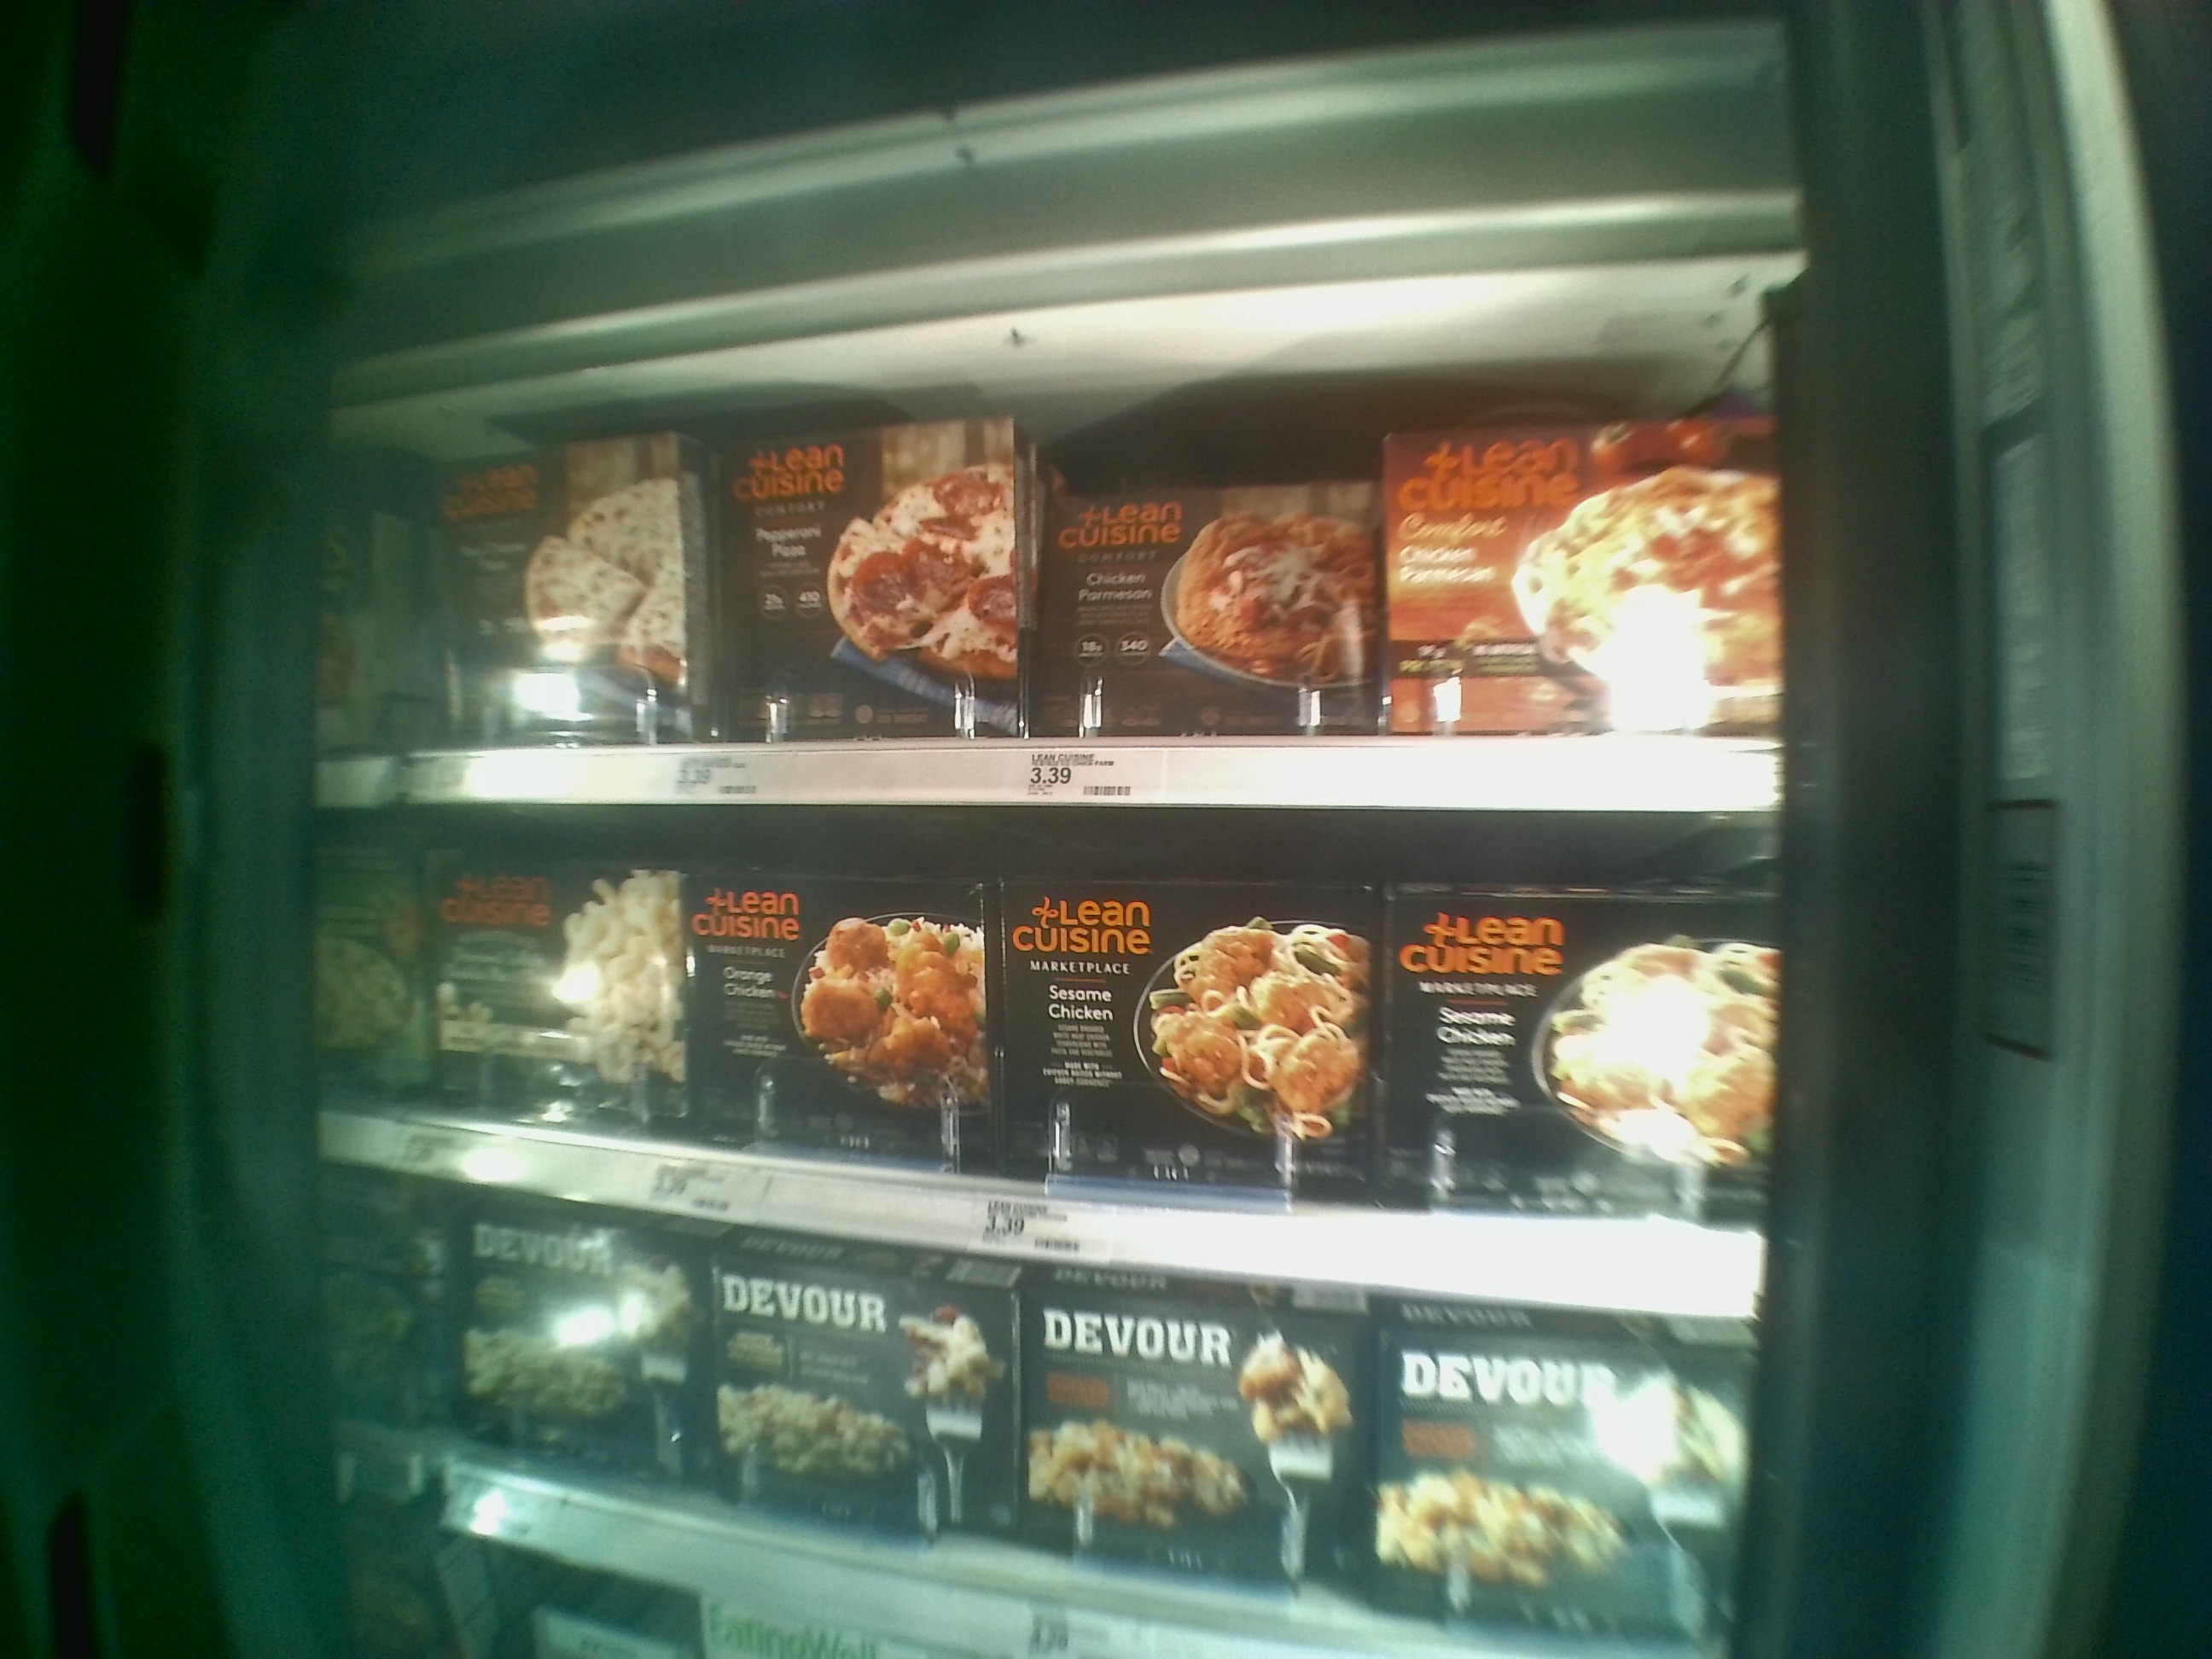pizza: (1393, 411, 1787, 727), (1000, 880, 1376, 1182), (1390, 918, 1766, 1190), (1024, 1305, 1366, 1596), (723, 416, 1035, 734), (688, 859, 998, 1166), (411, 425, 707, 741), (697, 1270, 1029, 1544), (1366, 1345, 1686, 1624), (1035, 484, 1376, 728), (421, 868, 698, 1129), (465, 1209, 697, 1490)
